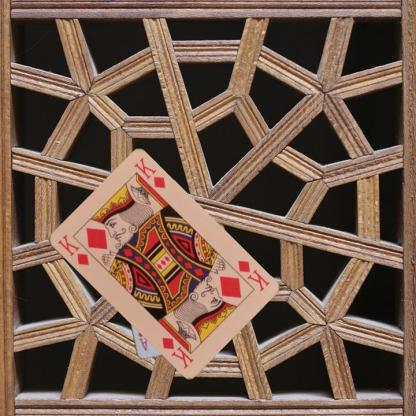Kd: (54, 232, 90, 268), (235, 258, 271, 293)
